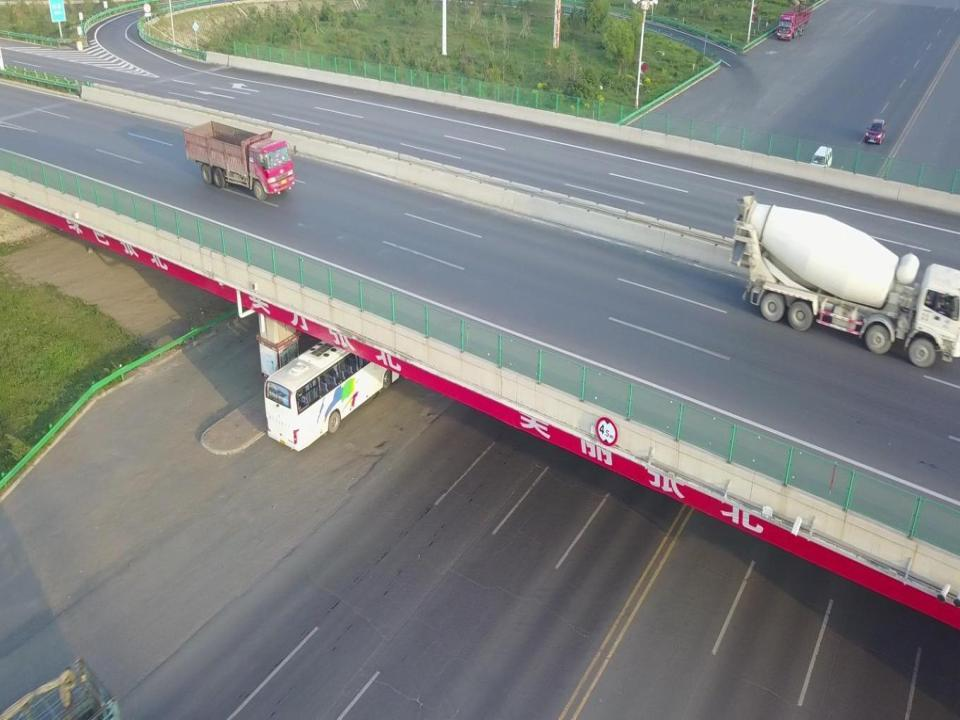bus: (263, 302, 409, 450)
car: (865, 119, 886, 146)
truck: (732, 194, 960, 366), (182, 122, 294, 200), (776, 2, 814, 38)
van: (810, 146, 834, 172)
